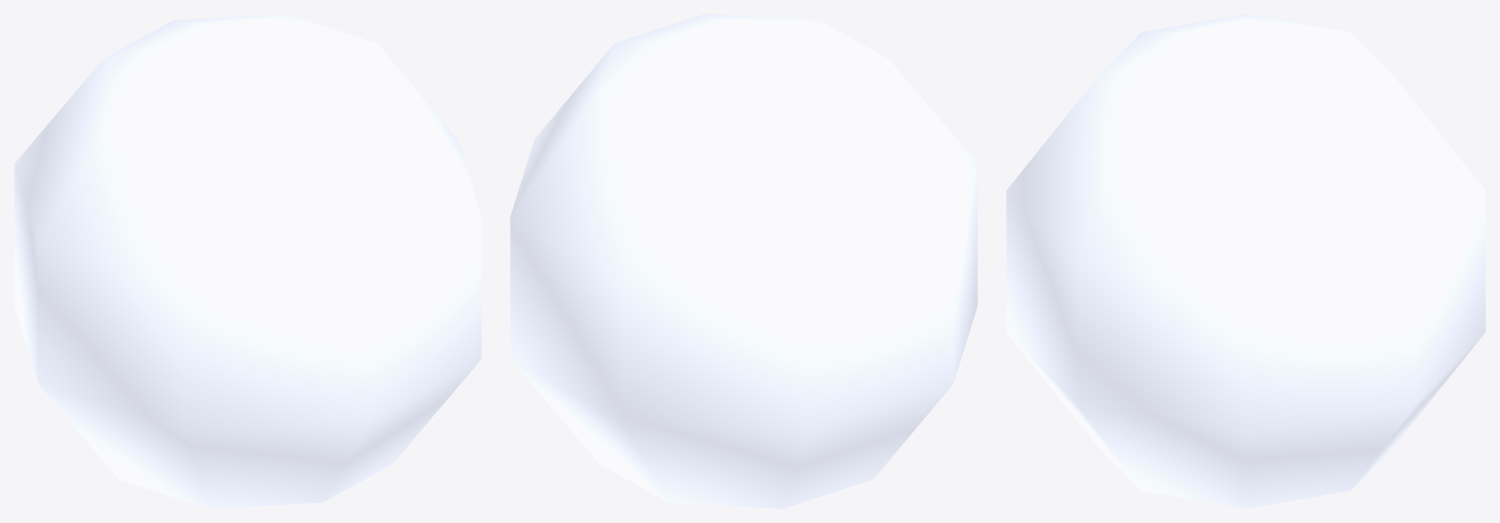
File: marble-low-col.glb
The picture shows the model from 3 angles, left to right: view 1: azimuth 30°, elevation 25°; view 2: azimuth 150°, elevation 25°; view 3: azimuth 270°, elevation 25°; orthographic projection.
Parts seen in each view (by area): view 1: marble-low-col; view 2: marble-low-col; view 3: marble-low-col.
Boxes of the visible parts, left/top/right/bottom form: marble-low-col: left=14, top=14, right=481, bottom=508; marble-low-col: left=510, top=14, right=977, bottom=508; marble-low-col: left=1006, top=14, right=1485, bottom=508.
Bounding box in the file's own units: 0.3804 × 0.4 × 0.3804.
